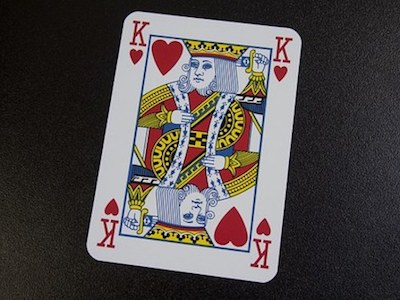KingOfHearts: (77, 8, 305, 287)
